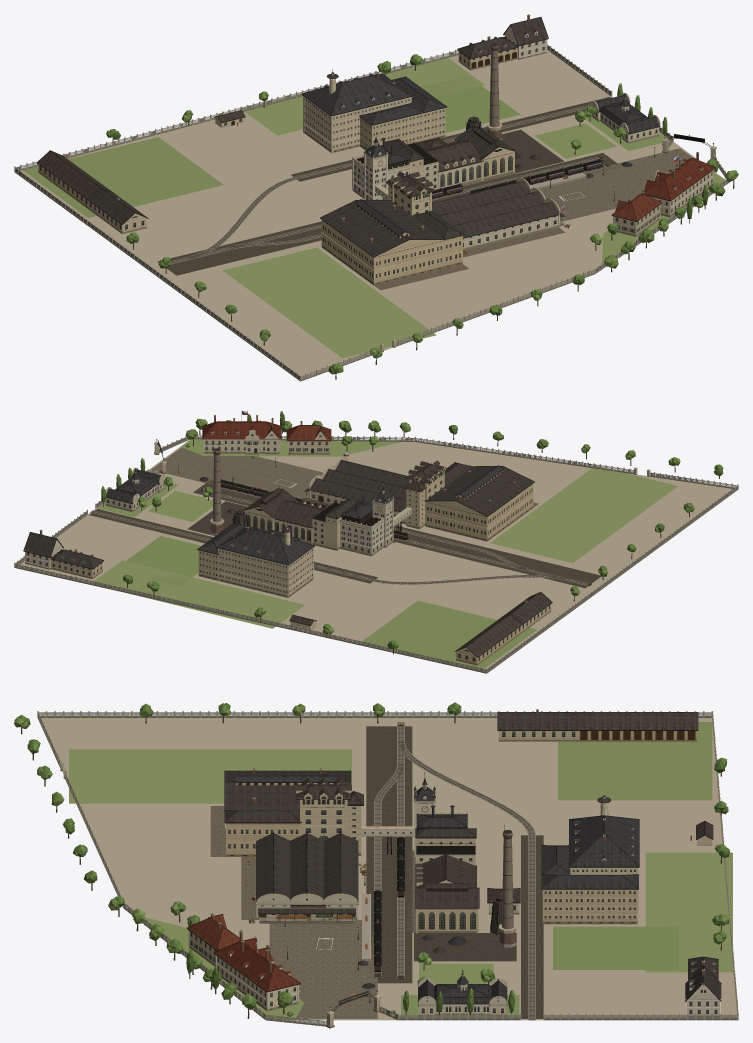
The model's file is svetovar.glb.
3 renders of one model, top to bottom at view 1: azimuth 30°, elevation 25°; view 2: azimuth 150°, elevation 25°; view 3: azimuth 270°, elevation 25°, orthographic. The views are drawn at different scales.
Parts seen in each view (by area): view 1: svetovar-props, svetovar-walls, svetovar-roofs, svetovar-yard, svetovar-fence-panels, svetovar-wagons; view 2: svetovar-props, svetovar-walls, svetovar-roofs, svetovar-yard, svetovar-fence-panels, svetovar-wagons; view 3: svetovar-props, svetovar-roofs, svetovar-walls, svetovar-yard, svetovar-fence-panels, svetovar-wagons.
Boxes of the visible parts, bbox=[...] form: svetovar-props: bbox=[20, 50, 738, 379]; svetovar-walls: bbox=[14, 14, 729, 381]; svetovar-roofs: bbox=[37, 17, 715, 257]; svetovar-yard: bbox=[157, 97, 692, 290]; svetovar-fence-panels: bbox=[15, 45, 728, 379]; svetovar-wagons: bbox=[432, 158, 602, 198]; svetovar-props: bbox=[18, 410, 732, 671]; svetovar-walls: bbox=[14, 415, 738, 673]; svetovar-roofs: bbox=[23, 421, 552, 657]; svetovar-yard: bbox=[89, 447, 600, 588]; svetovar-fence-panels: bbox=[15, 435, 737, 672]; svetovar-wagons: bbox=[220, 479, 408, 540]; svetovar-props: bbox=[14, 702, 737, 1020]; svetovar-roofs: bbox=[187, 712, 721, 1006]; svetovar-walls: bbox=[37, 709, 738, 1028]; svetovar-yard: bbox=[210, 726, 543, 1018]; svetovar-fence-panels: bbox=[38, 712, 737, 1024]; svetovar-wagons: bbox=[374, 837, 404, 972].
Bounding box in the file's own units: 286 × 51.28 × 282.
5 materials, 4 textured.
